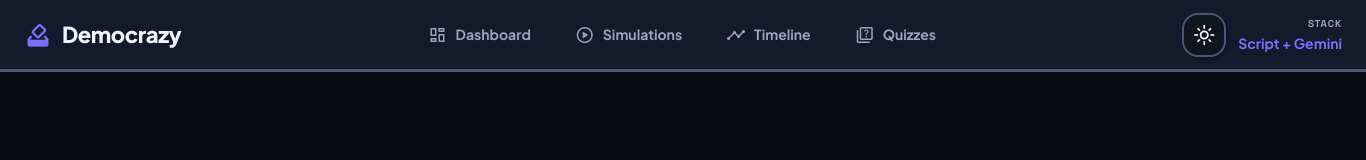
Navbar › toggles theme visual state
Click the button named "switch to light theme". click: (1204, 34)
box: x1=1182 y1=12 x2=1226 y2=56
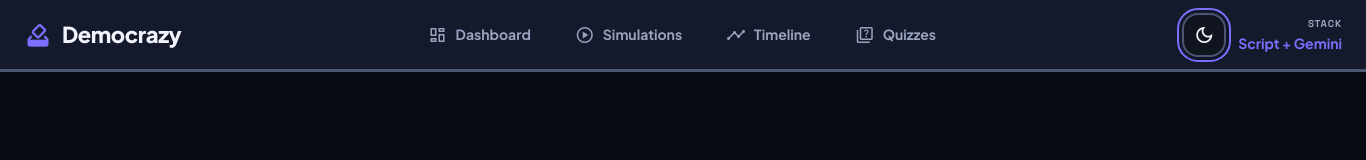
Now the button named "switch to dark theme" is shown, box x1=1182 y1=12 x2=1226 y2=56
